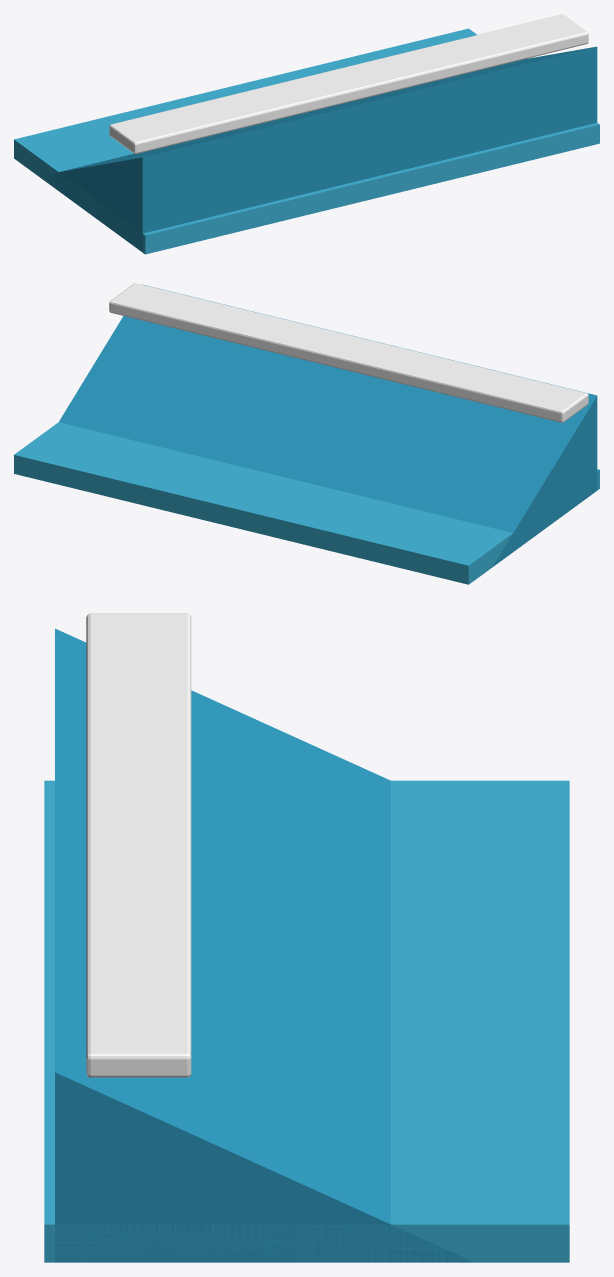
Rendered from Surfing_Wave.fbx.
3 renders of one model, top to bottom at view 1: azimuth 30°, elevation 25°; view 2: azimuth 150°, elevation 25°; view 3: azimuth 270°, elevation 25°, orthographic. The views are drawn at different scales.
Parts seen in each view (by area): view 1: Wave; view 2: Wave; view 3: Wave.
Boxes of the visible parts, <box> form: Wave: <box>14,14,599,254</box>; Wave: <box>14,283,599,584</box>; Wave: <box>44,613,569,1262</box>.
Size of the model in its own units: 10 by 2.17 by 5.
